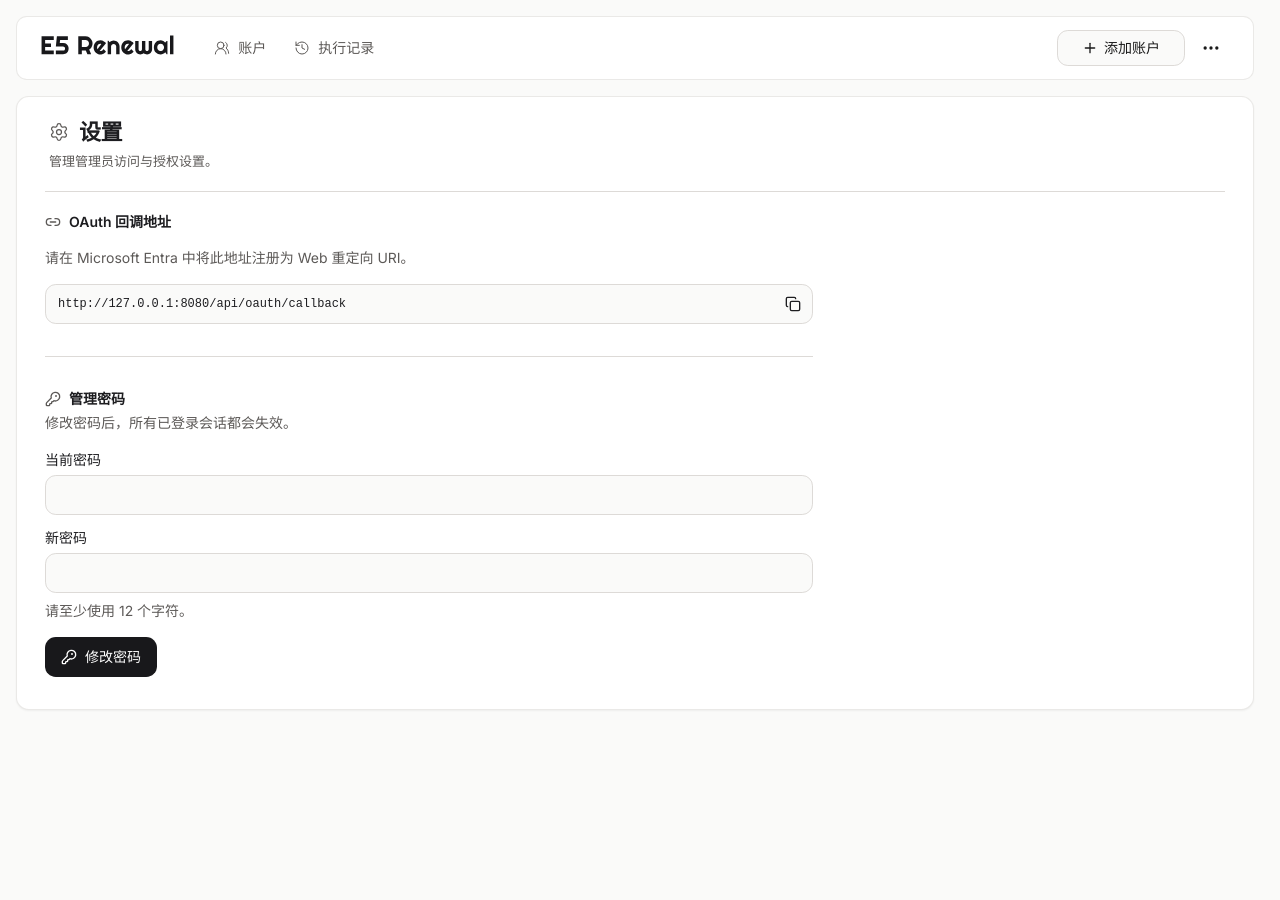
it: preserves the password-change notice while the session reloads
Type "current-test-only-password" into the password field labelled "当前密码" at (429, 495), box [45,475,813,515]
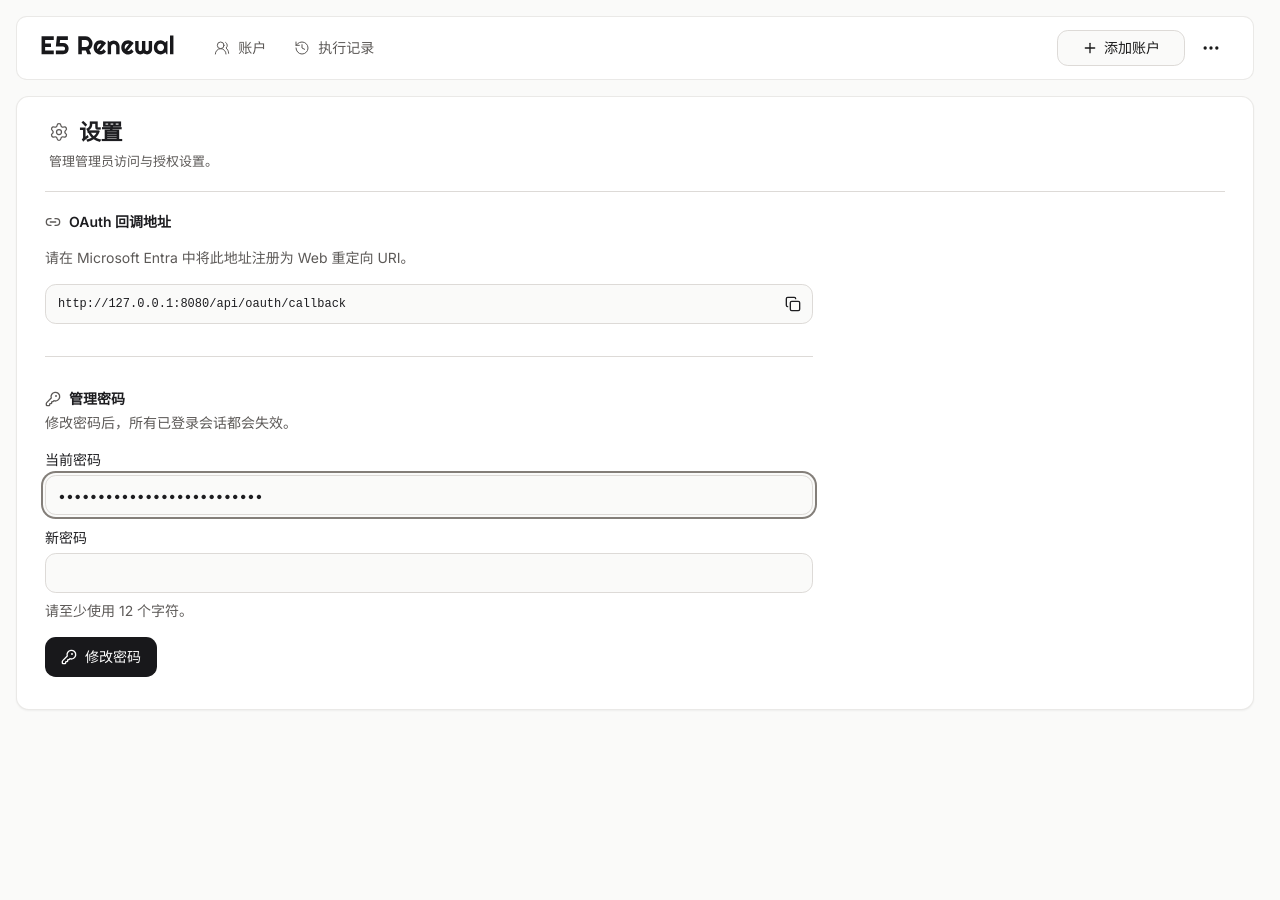
Type "new-test-only-password" into the password field labelled "新密码" at (429, 573), box [45,553,813,593]
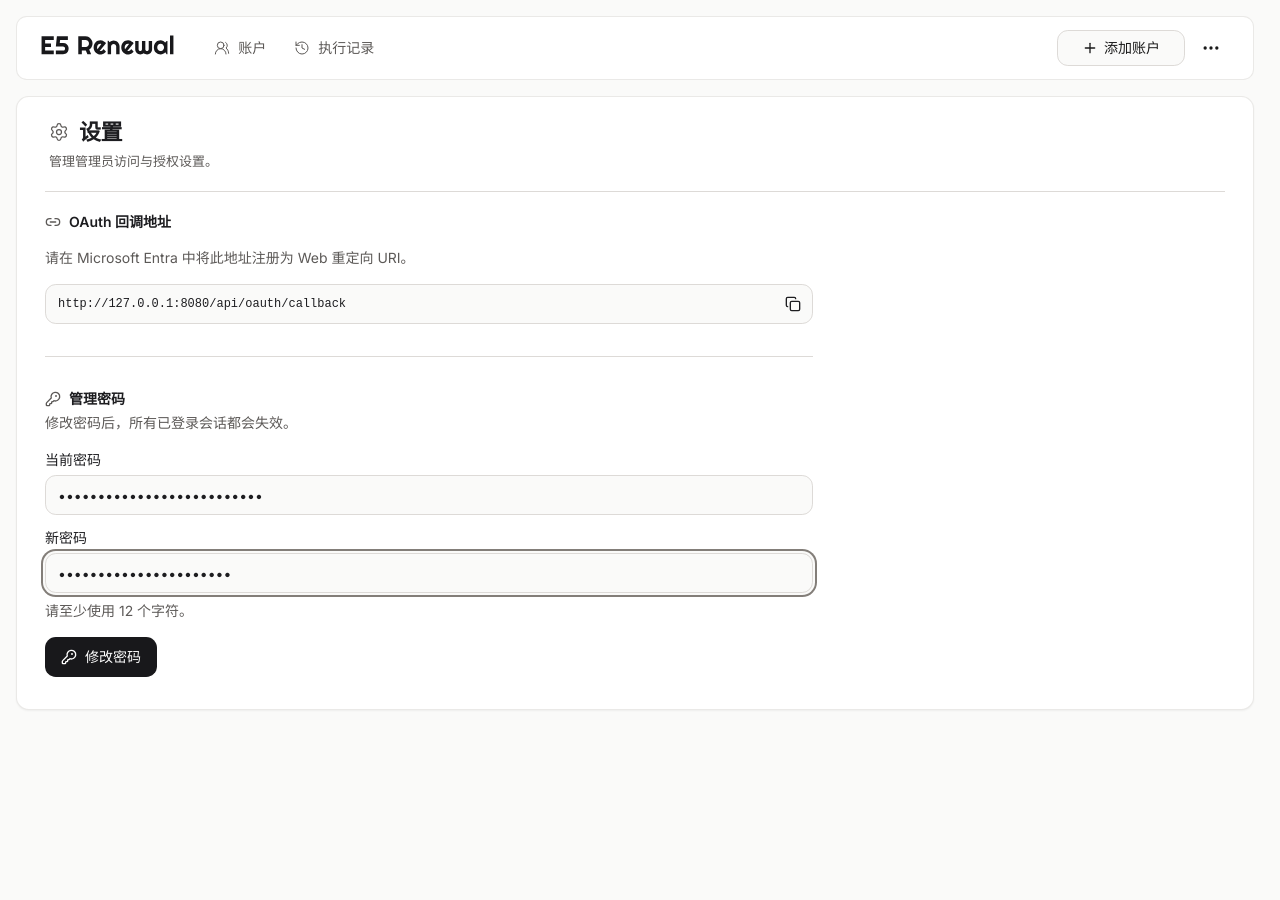
Click the button "修改密码" at (101, 657), box [45,637,157,677]
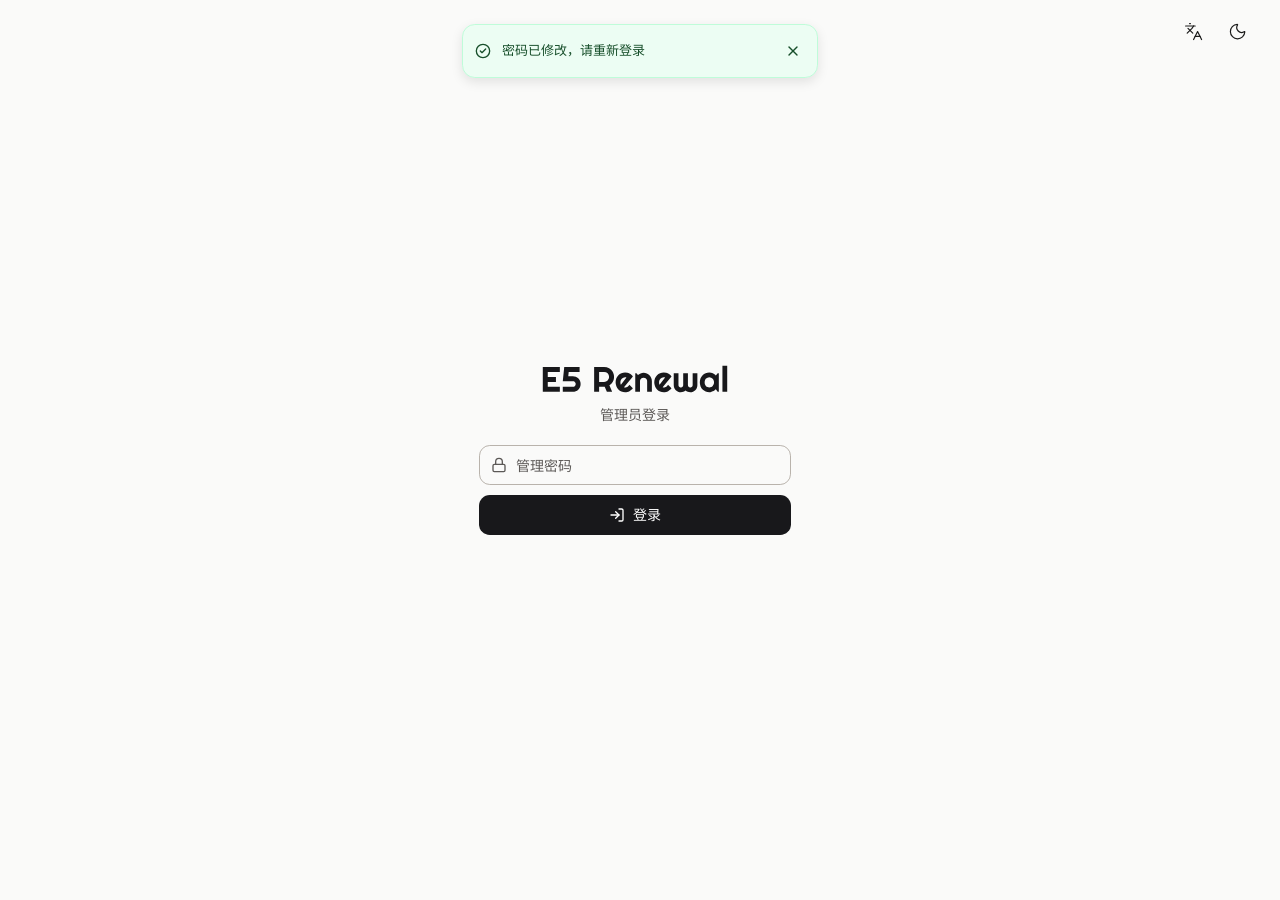
Now the heading "管理员登录" is shown, box [600,406,670,423]
Now the text "密码已修改，请重新登录" is shown, box [502,41,645,60]
